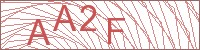2: (80, 5, 98, 32)
A: (52, 4, 77, 33), (26, 18, 51, 46)
F: (106, 17, 126, 45)
